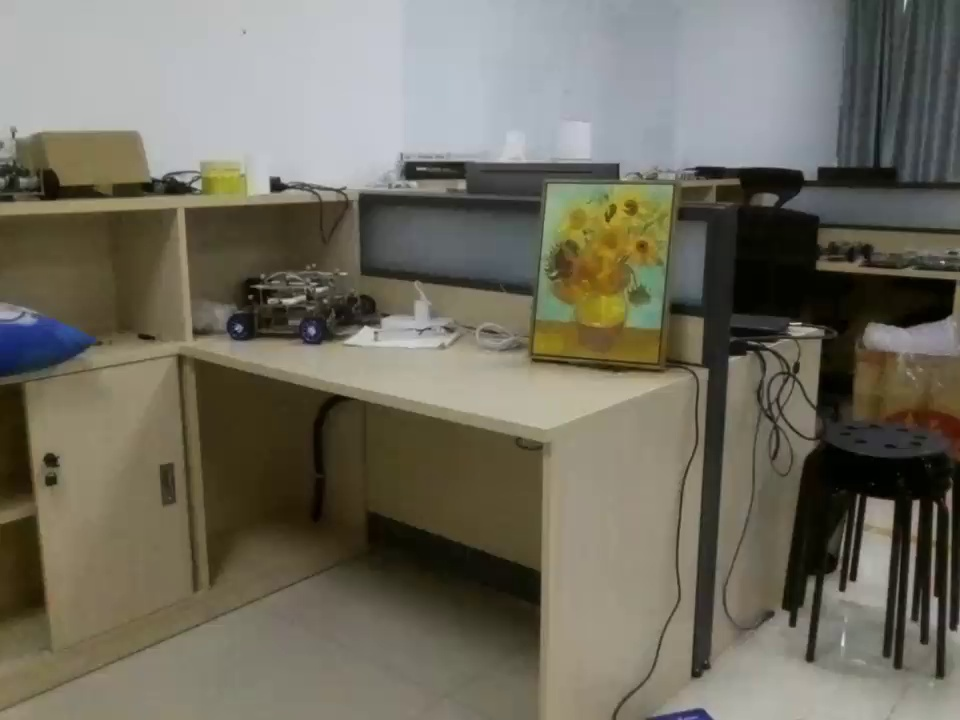painting: (532, 182, 685, 371)
